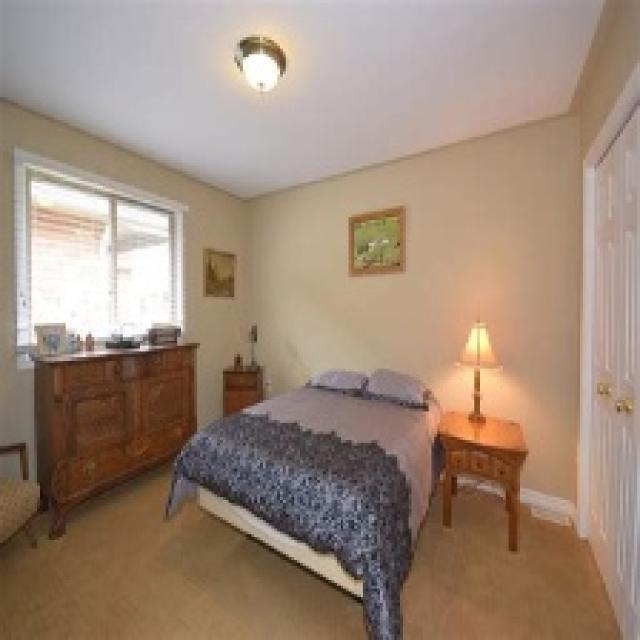Bed: (163, 366, 443, 637)
